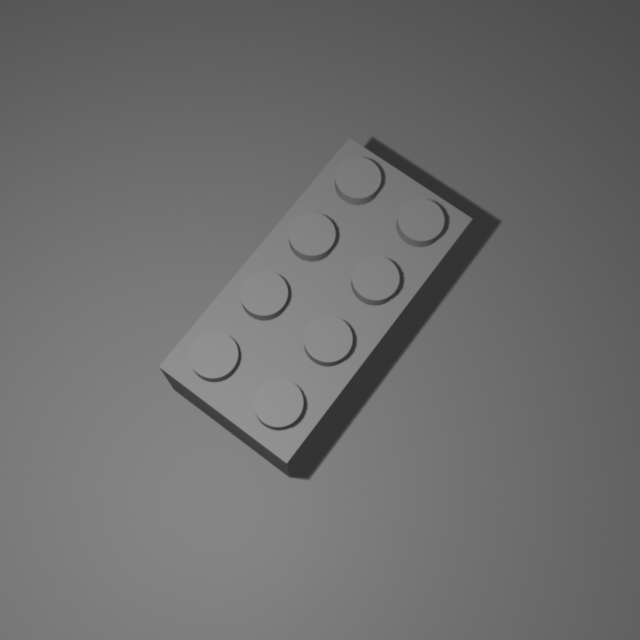lego_2x4: (156, 130, 475, 478)
